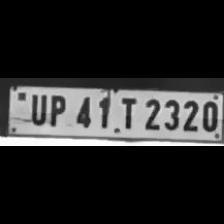0: (199, 98, 219, 132)
1: (94, 94, 114, 130)
2: (140, 96, 160, 132), (179, 97, 199, 133)
3: (160, 96, 180, 130)
4: (70, 94, 94, 128)
P: (46, 92, 68, 126)
T: (114, 95, 138, 131)
U: (26, 91, 46, 125)
